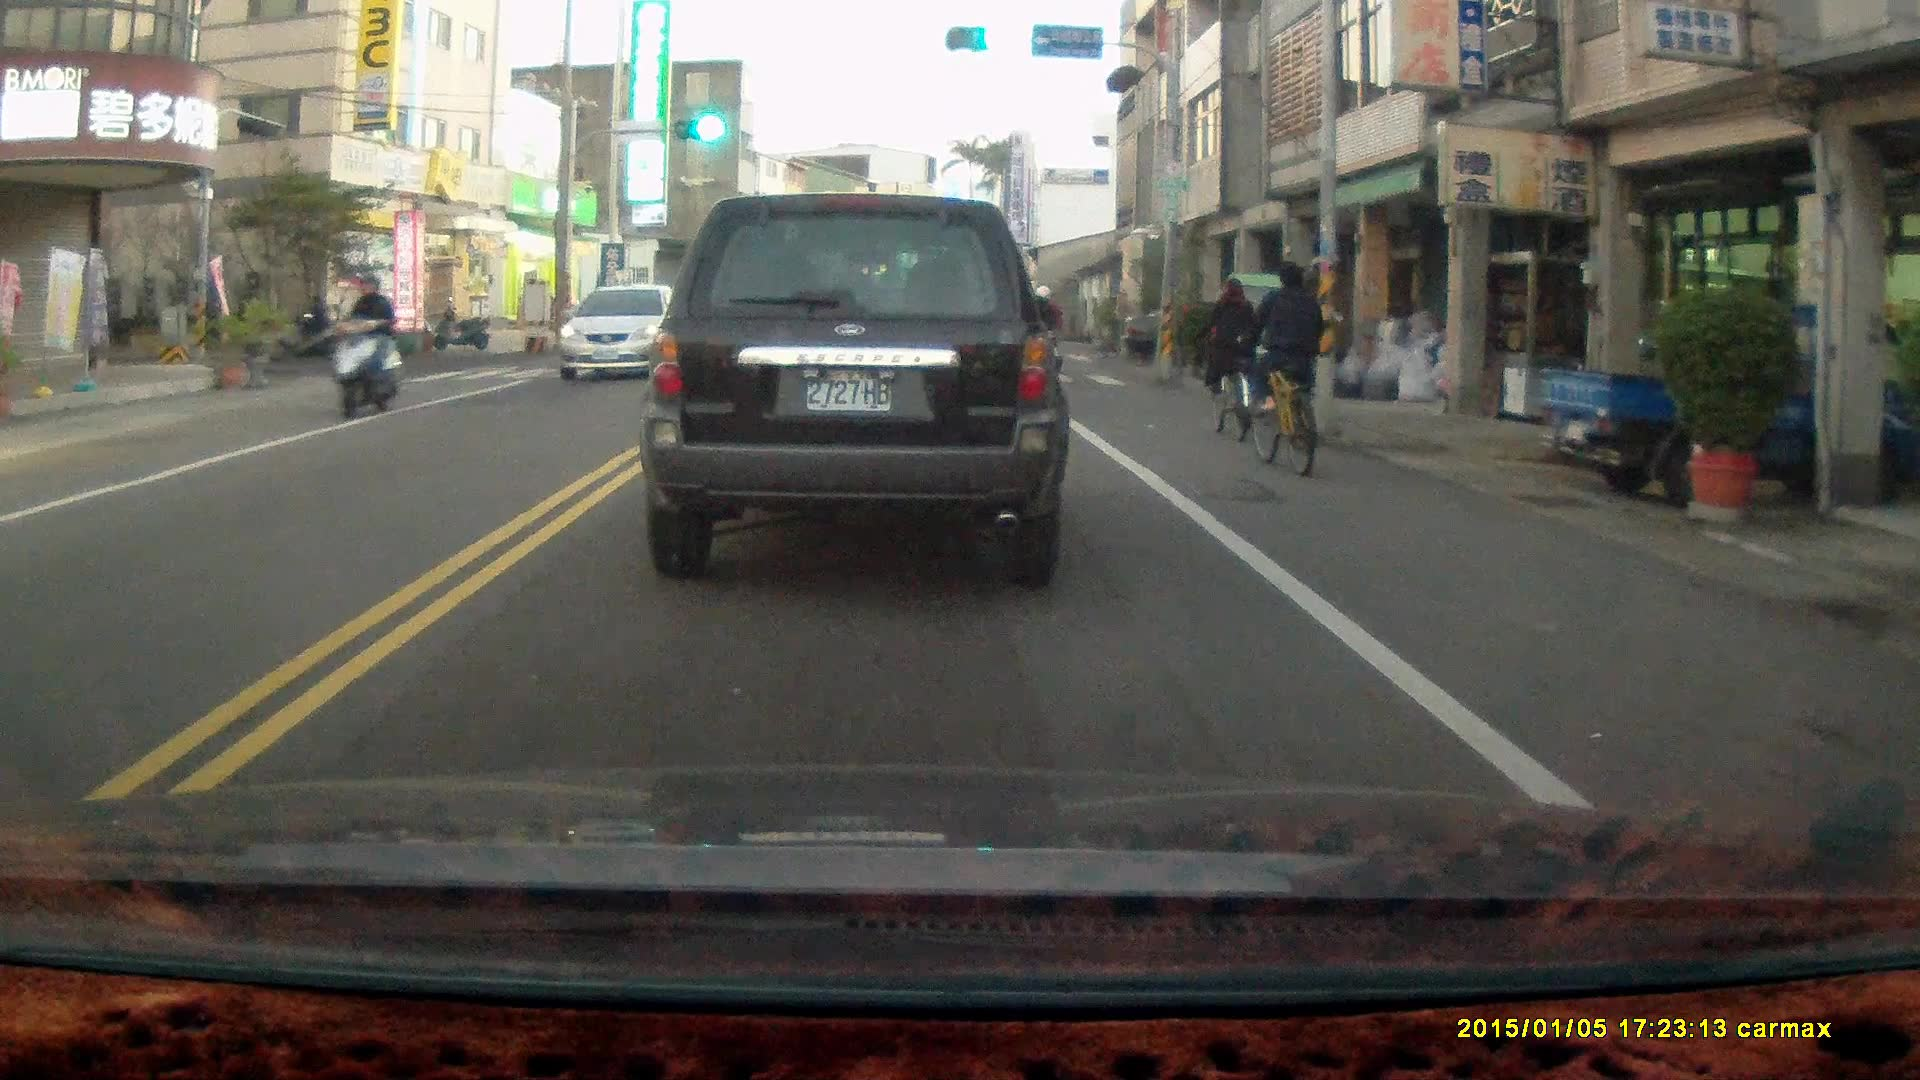rider: (1233, 260, 1326, 476), (327, 267, 405, 420), (1196, 277, 1261, 440), (270, 287, 349, 360)
vehicle: (638, 191, 1074, 588), (556, 284, 696, 384), (1208, 277, 1319, 392)
